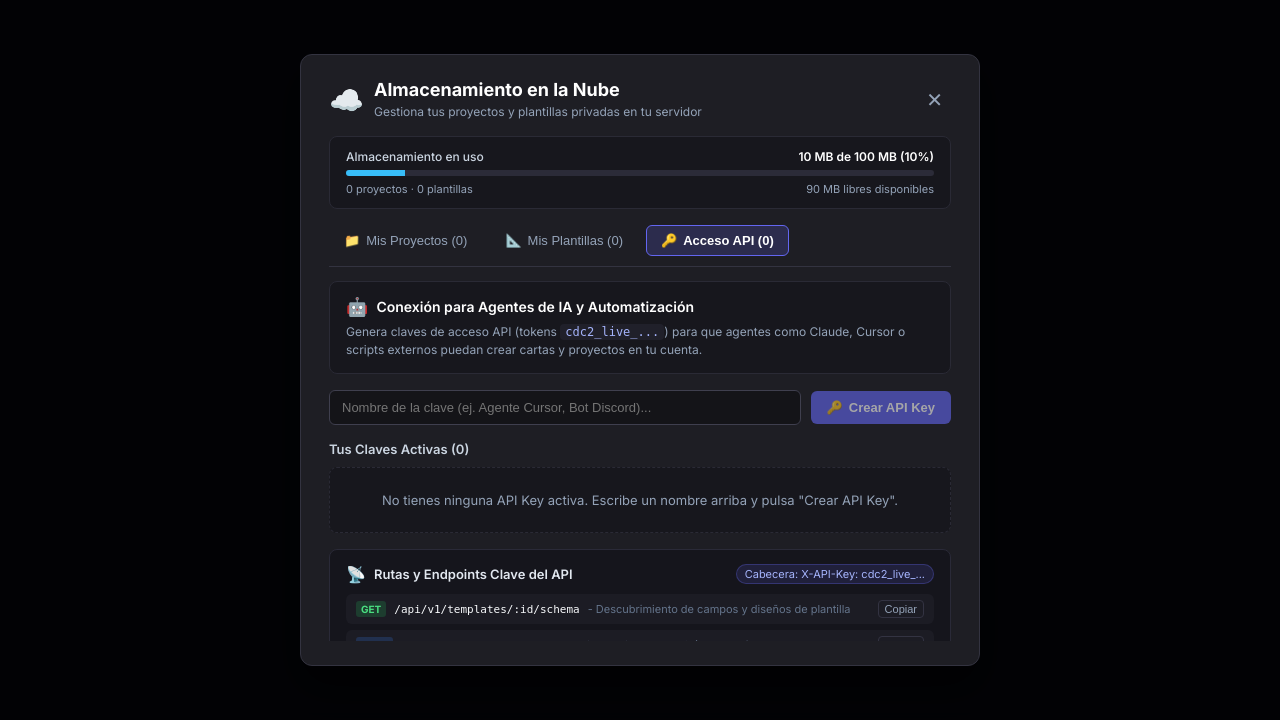
Test: SRS-078: Gestión de API Keys en CloudProjectsModal › RF-4: debe permitir crear una nueva API Key y mostrar el secreto en texto plano
// Esperar a que cargue la vista y escribir nombre en el input
Type "Agente Claude" into the field with placeholder "Nombre de la clave (ej. Agente Cursor, Bot Discord)...".
click(565, 408); type("Agente Claude")  # box 329,390 -> 800,425
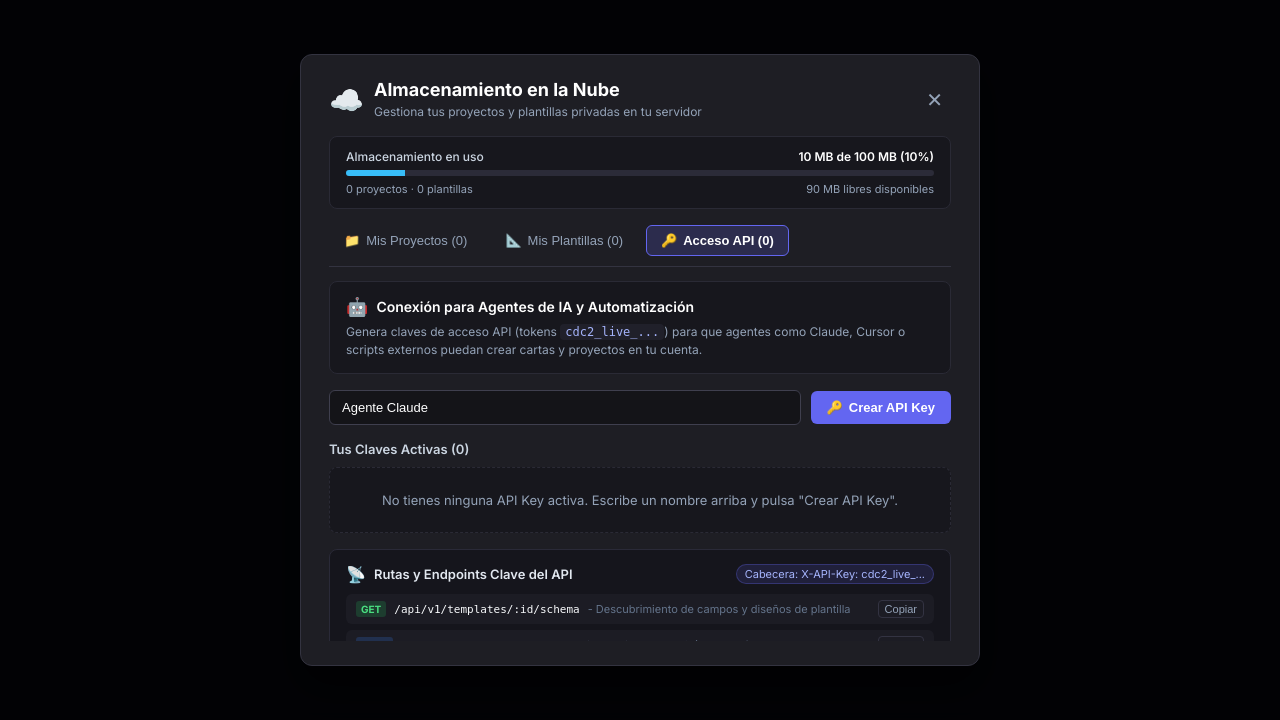
// Enviar formulario
Click the button "🔑 Crear API Key".
click(881, 408)  # box 810,391 -> 951,424
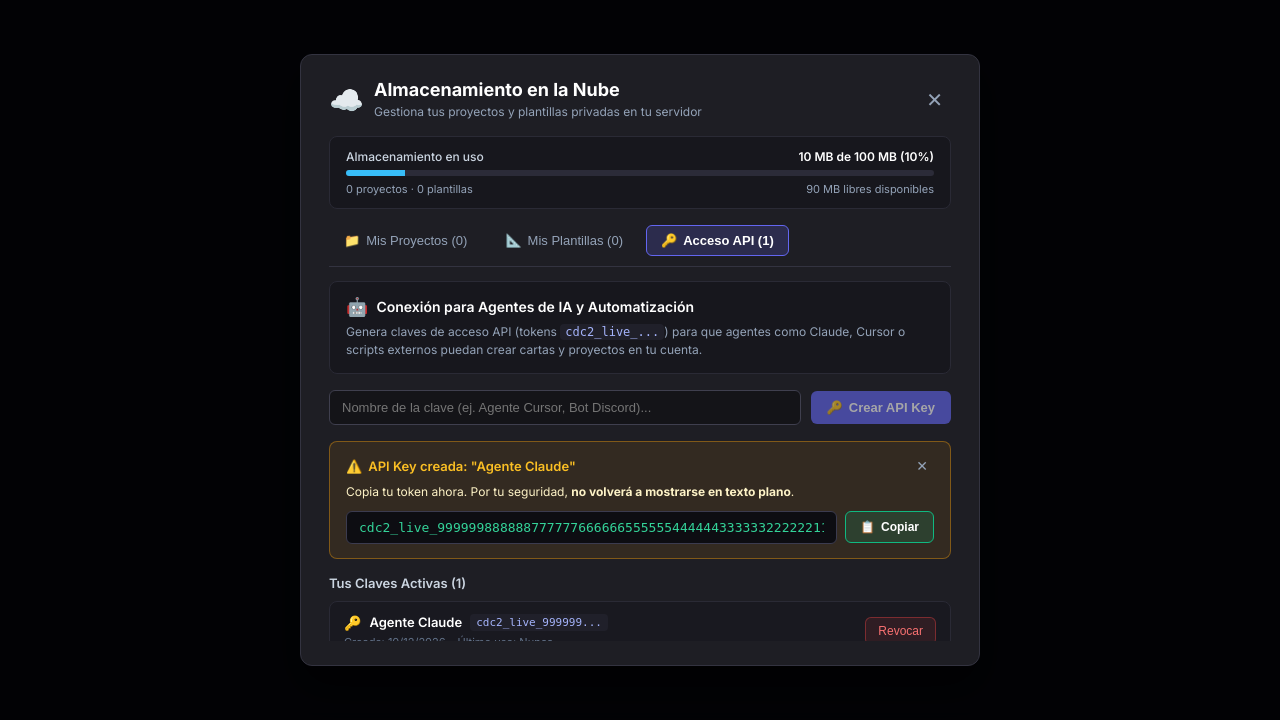
Expected: the text "API Key creada: \"Agente Claude\"" is shown, 368,458 -> 576,474
Expected: the field showing "cdc2_live_9999998888887777776666665555554444443333332222221111110000000000" is shown, 346,511 -> 837,544
Expected: the text "no volverá a mostrarse en texto plano" is shown, 571,484 -> 791,499
